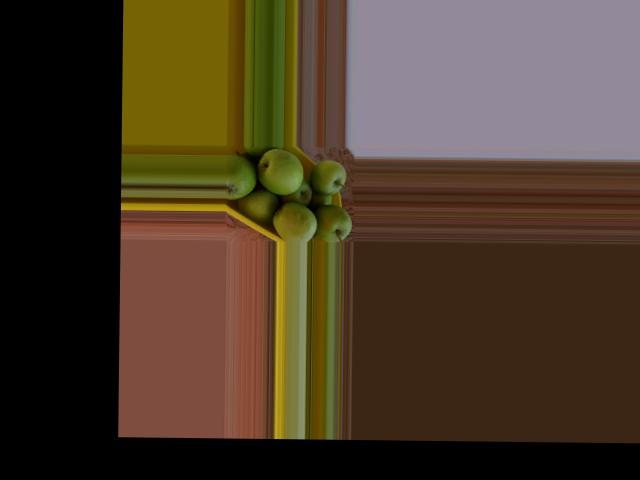apple: (236, 187, 277, 228)
